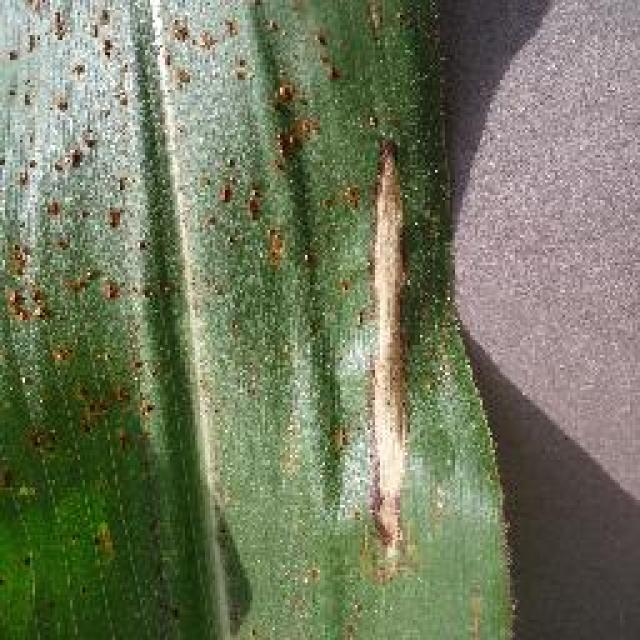Corn___Northern_Leaf_Blight: (2, 7, 567, 640)
